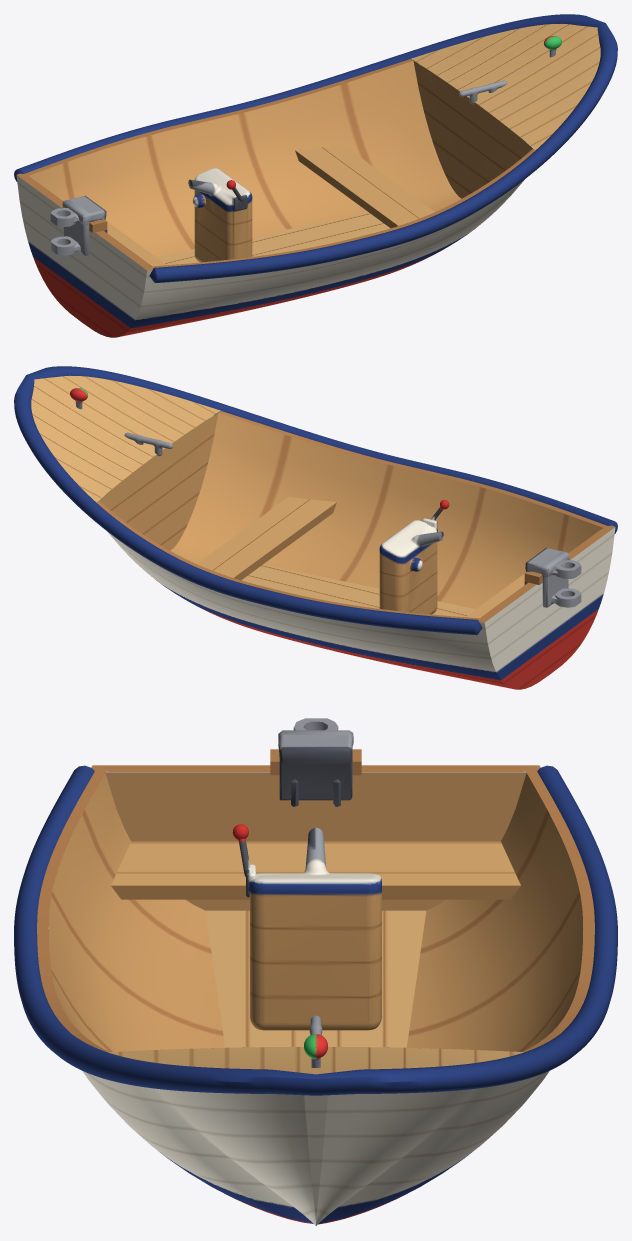
The model's file is SM_Boat_Hull.fbx.
3 views of the same model, one above another, from view 1: azimuth 30°, elevation 25°; view 2: azimuth 150°, elevation 25°; view 3: azimuth 270°, elevation 25° (orthographic). The views are drawn at different scales.
Parts seen in each view (by area): view 1: SM_Boat_Hull; view 2: SM_Boat_Hull; view 3: SM_Boat_Hull.
Part boxes in pixels (box(x1,y1,x2,y2)): SM_Boat_Hull: box(14, 14, 617, 337); SM_Boat_Hull: box(14, 366, 617, 689); SM_Boat_Hull: box(14, 718, 617, 1225).
Size of what is drawn, in the model's own units: 119 by 215 by 64.
1 material, 1 textured.
